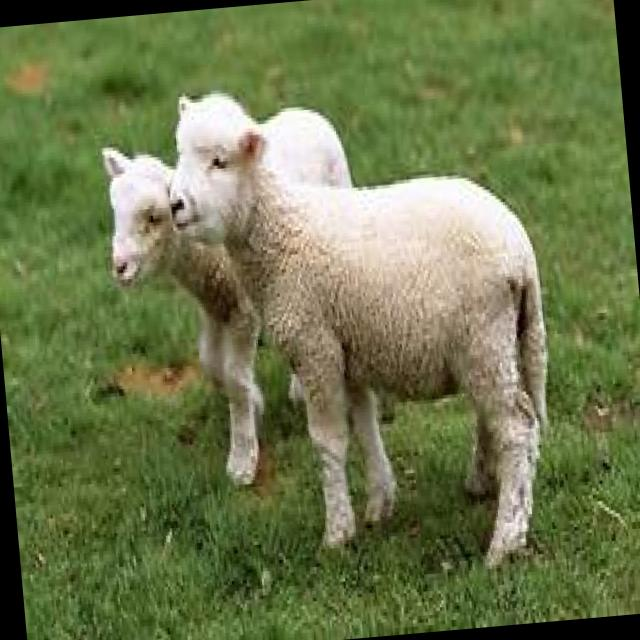animal: (158, 59, 568, 594), (98, 85, 378, 498)
